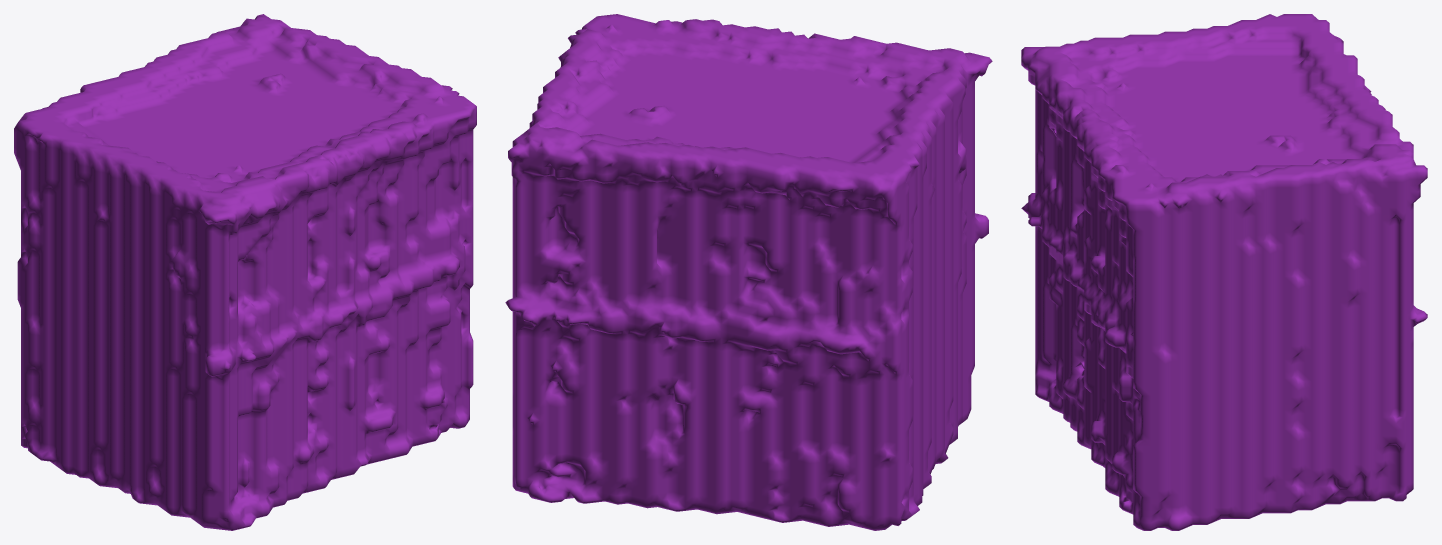
The model's file is gen1_colored.obj.
The picture shows the model from 3 angles, left to right: view 1: azimuth 30°, elevation 25°; view 2: azimuth 150°, elevation 25°; view 3: azimuth 270°, elevation 25°; orthographic projection. The views are drawn at different scales.
Parts seen in each view (by area): view 1: gen1.obj; view 2: gen1.obj; view 3: gen1.obj.
Part boxes in pixels (box(x1,y1,x2,y2)): gen1.obj: box(14, 14, 476, 530); gen1.obj: box(505, 14, 992, 530); gen1.obj: box(1021, 14, 1427, 530).
Size of the model in its own units: 62 by 53 by 58.
